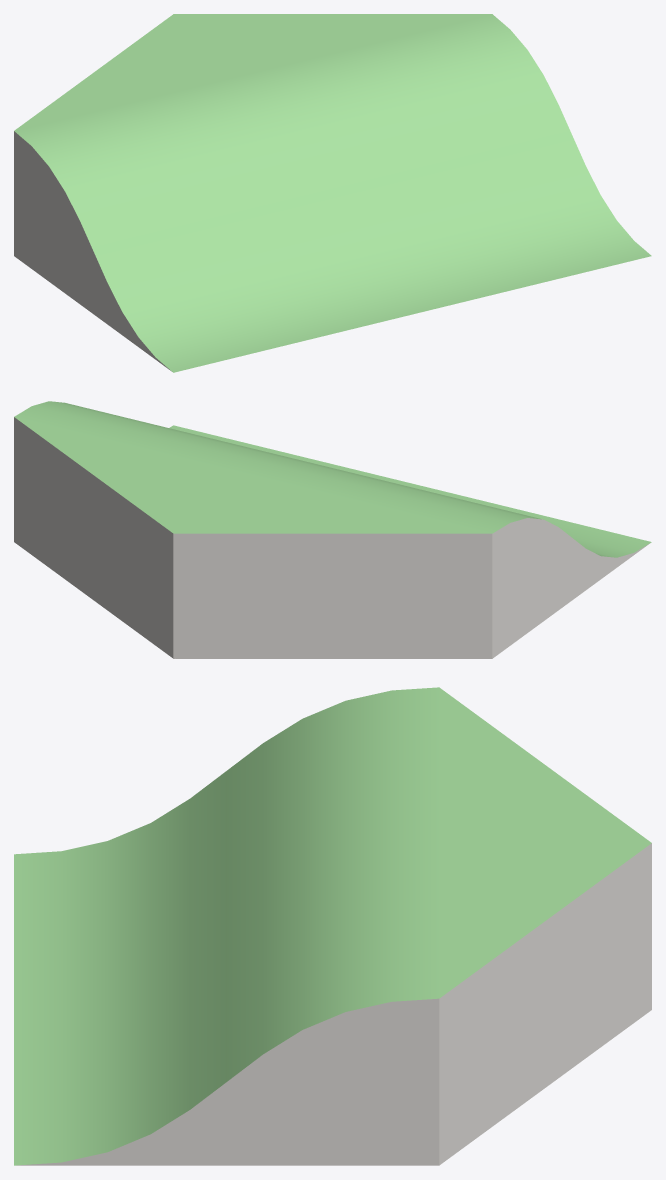
Rendered from Terrain_Grass_Hill_Straight.glb.
The picture shows the model from 3 angles, top to bottom: view 1: azimuth 30°, elevation 25°; view 2: azimuth 150°, elevation 25°; view 3: azimuth 270°, elevation 25°; orthographic projection. The views are drawn at different scales.
Visible parts, largest first — view 1: object1; view 2: object1; view 3: object1.
Boxes of the visible parts, left/top/right/bottom form: object1: left=14, top=14, right=651, bottom=372; object1: left=14, top=401, right=651, bottom=658; object1: left=14, top=687, right=651, bottom=1165.
Bounding box in the file's own units: 1 × 0.25 × 0.866.
